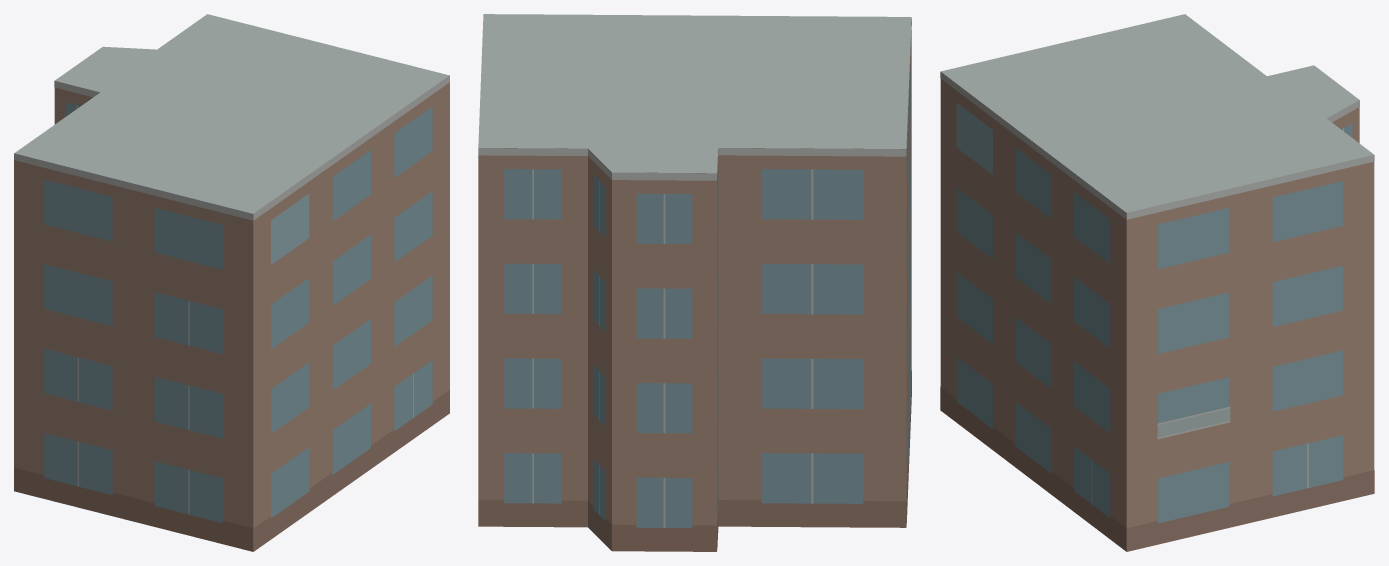
The model's file is residential-c0250020-4f8a-4d26-a2a3-e2849bcc5d55.glb.
The picture shows the model from 3 angles, left to right: view 1: azimuth 30°, elevation 25°; view 2: azimuth 150°, elevation 25°; view 3: azimuth 270°, elevation 25°; orthographic projection. The views are drawn at different scales.
Parts seen in each view (by area): view 1: residential-c0250020-4f8a-4d26-a2a3-e2849bcc5d55.tmp; view 2: residential-c0250020-4f8a-4d26-a2a3-e2849bcc5d55.tmp; view 3: residential-c0250020-4f8a-4d26-a2a3-e2849bcc5d55.tmp.
Part boxes in pixels (x1,y1,x2,y2): residential-c0250020-4f8a-4d26-a2a3-e2849bcc5d55.tmp: (14, 14, 449, 551); residential-c0250020-4f8a-4d26-a2a3-e2849bcc5d55.tmp: (478, 14, 911, 551); residential-c0250020-4f8a-4d26-a2a3-e2849bcc5d55.tmp: (940, 14, 1374, 551).
Size of the model in its own units: 15.37 by 12.2 by 14.17.
